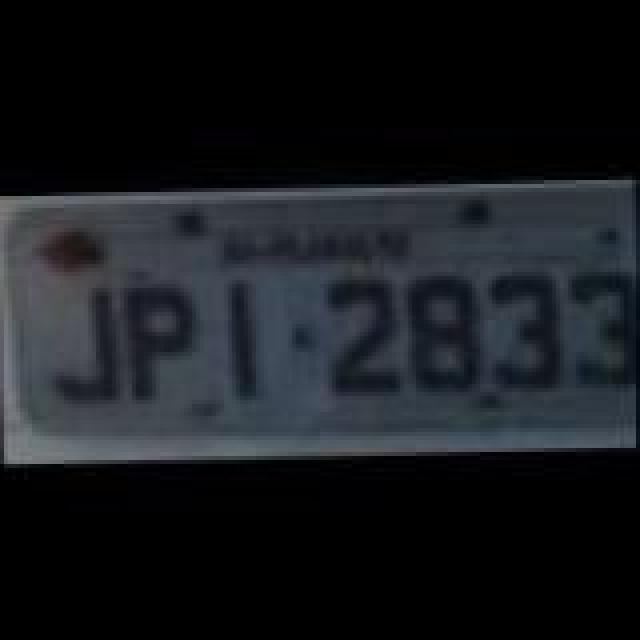1: (212, 278, 272, 402)
2: (318, 268, 398, 404)
3: (478, 264, 558, 404), (560, 260, 636, 392)
8: (398, 264, 478, 396)
J: (38, 280, 118, 408)
P: (118, 274, 198, 410)
